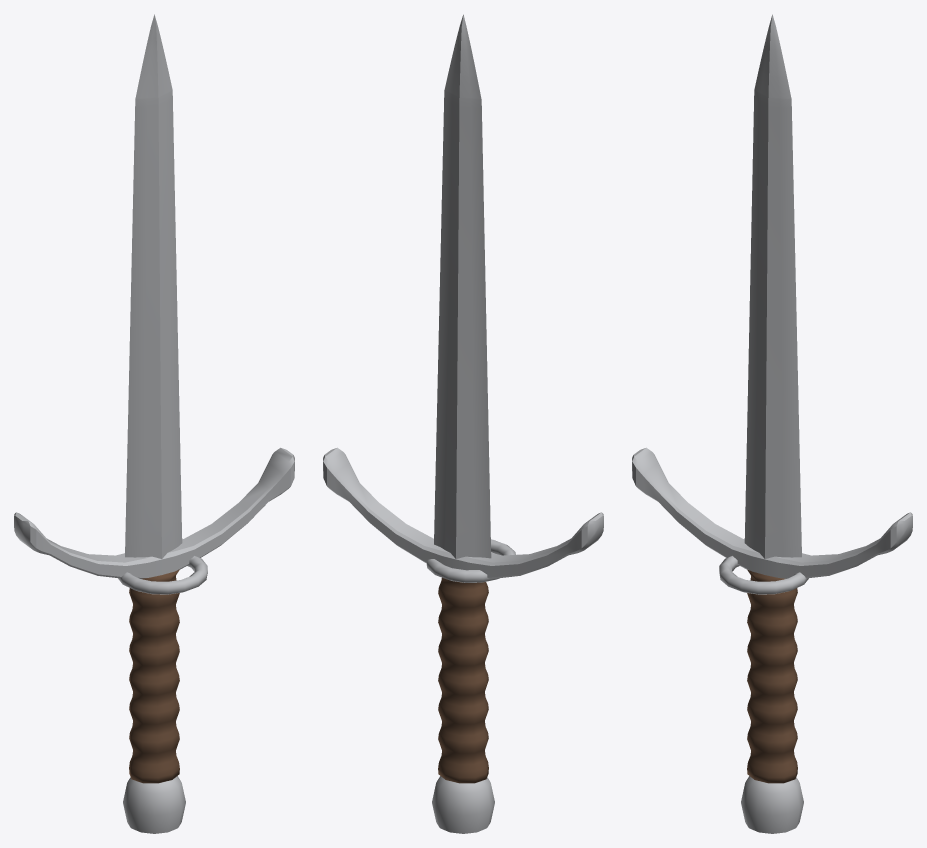
The model's file is dueling-dagger.glb.
3 views of the same model, side by side, from view 1: azimuth 30°, elevation 25°; view 2: azimuth 150°, elevation 25°; view 3: azimuth 330°, elevation 25° (orthographic).
Visible parts, largest first — view 1: dueling-dagger; view 2: dueling-dagger; view 3: dueling-dagger.
Boxes of the visible parts, x1,y1,x2,y2 form: dueling-dagger: (14, 14, 294, 833); dueling-dagger: (323, 14, 603, 833); dueling-dagger: (632, 14, 912, 833).
Bounding box in the file's own units: 0.4 × 1.14 × 0.1178.
